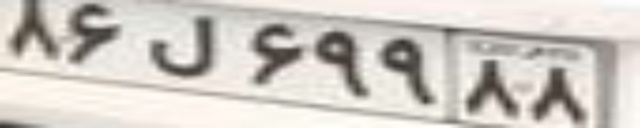6: (62, 1, 124, 64), (246, 21, 302, 85)
8: (461, 58, 521, 118), (6, 0, 62, 62), (529, 67, 586, 124)
9: (377, 38, 439, 105), (314, 30, 368, 98)
lam: (143, 13, 217, 77)
